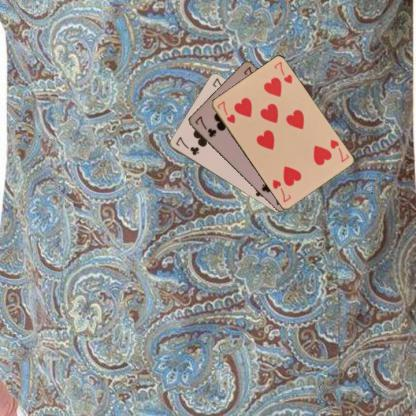7c: (192, 113, 218, 139), (173, 134, 200, 157)
7h: (327, 136, 350, 164), (214, 98, 236, 124)
